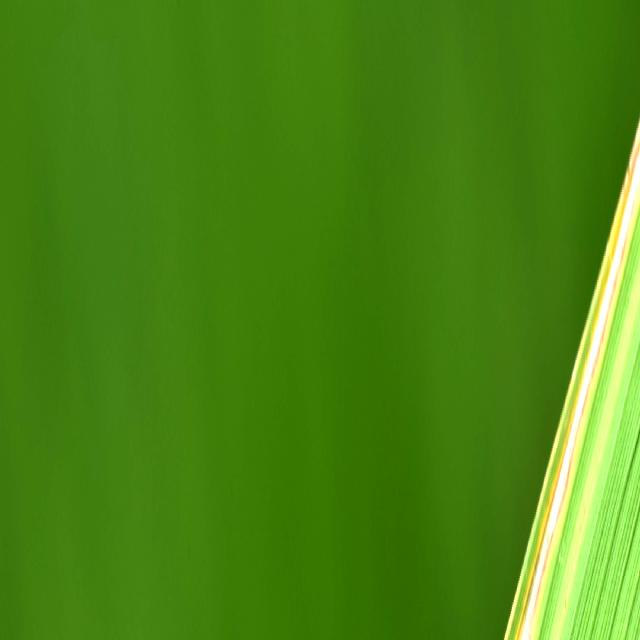BLB: (517, 132, 639, 640)
